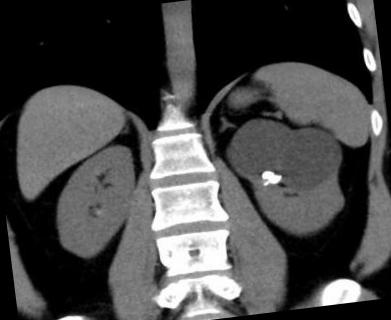Tas_Var: (260, 168, 282, 186), (262, 180, 270, 186)
